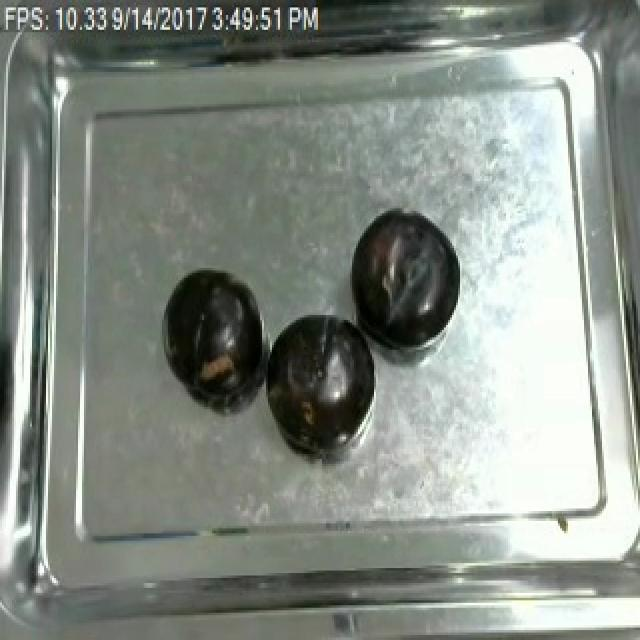Fruit: (346, 204, 464, 358), (264, 305, 378, 452), (158, 265, 256, 392)
